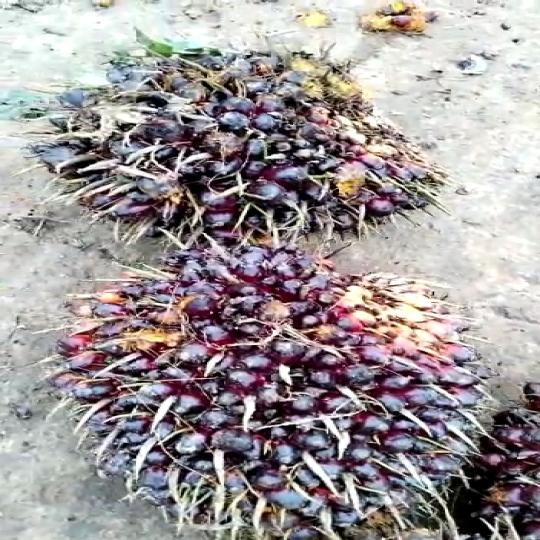kurang masak: (45, 237, 525, 540), (25, 46, 469, 242)
